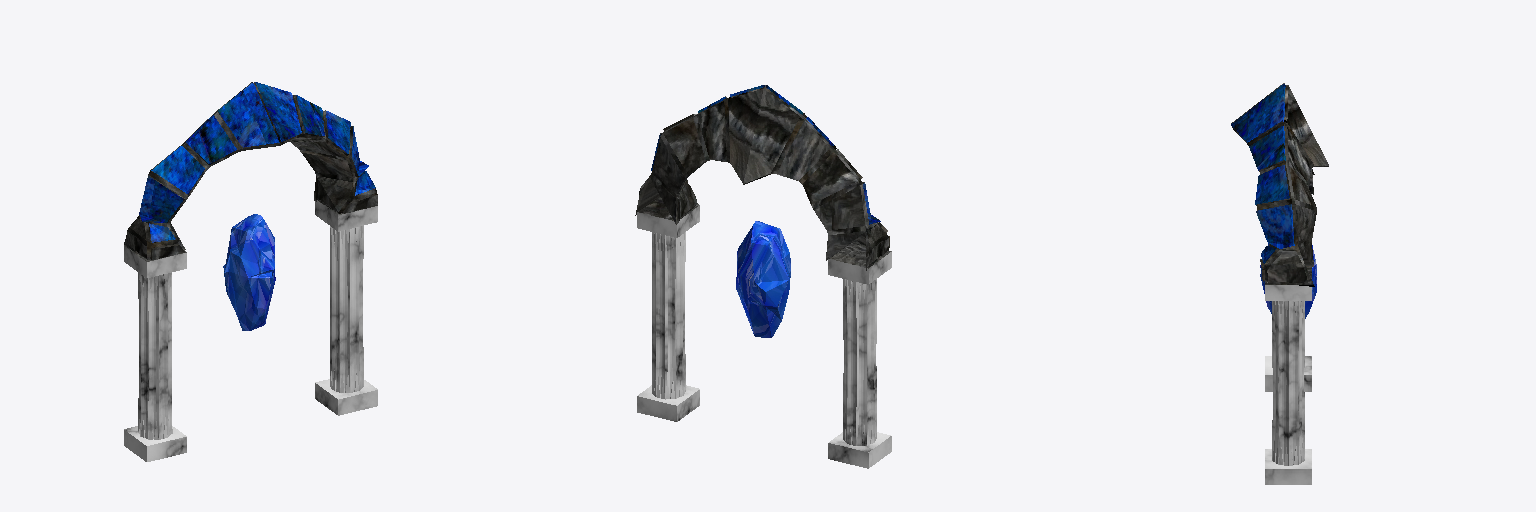
3 views of the same model, side by side, from view 1: azimuth 30°, elevation 25°; view 2: azimuth 150°, elevation 25°; view 3: azimuth 270°, elevation 25° (orthographic).
Visible parts, largest first — view 1: polySurface3, Crystal:pSphere1; view 2: polySurface3, Crystal:pSphere1; view 3: polySurface3.
Boxes of the visible parts, x1=… form: polySurface3: x1=124, y1=82, x2=377, y2=461; Crystal:pSphere1: x1=223, y1=214, x2=275, y2=330; polySurface3: x1=635, y1=85, x2=891, y2=468; Crystal:pSphere1: x1=736, y1=221, x2=790, y2=337; polySurface3: x1=1231, y1=83, x2=1328, y2=484.
Size of the model in its own units: 9.23 by 13.06 by 3.39.
2 materials, 2 textured.